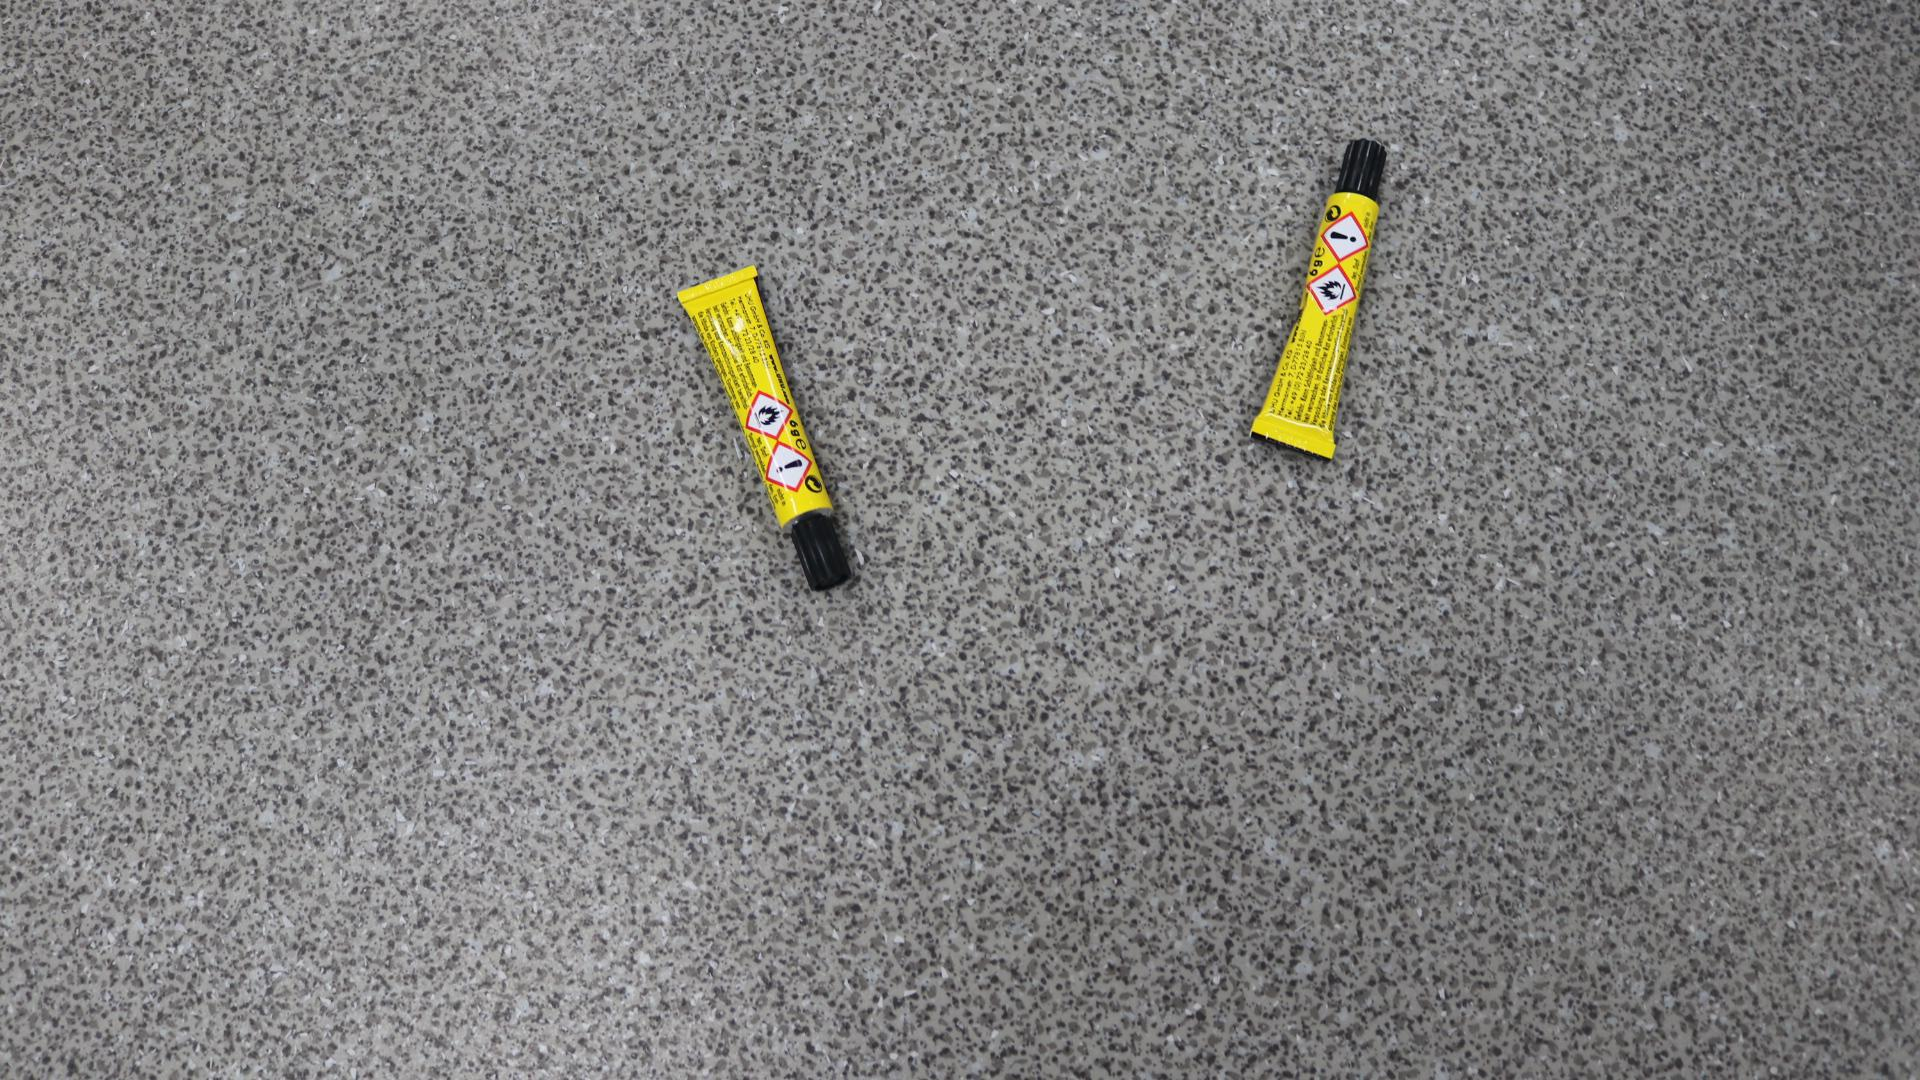Head: (1360, 163, 1367, 171), (818, 548, 823, 553)
Tail: (1290, 436, 1296, 442), (715, 282, 719, 288)
Tube: (676, 265, 853, 592), (1249, 137, 1388, 461)
